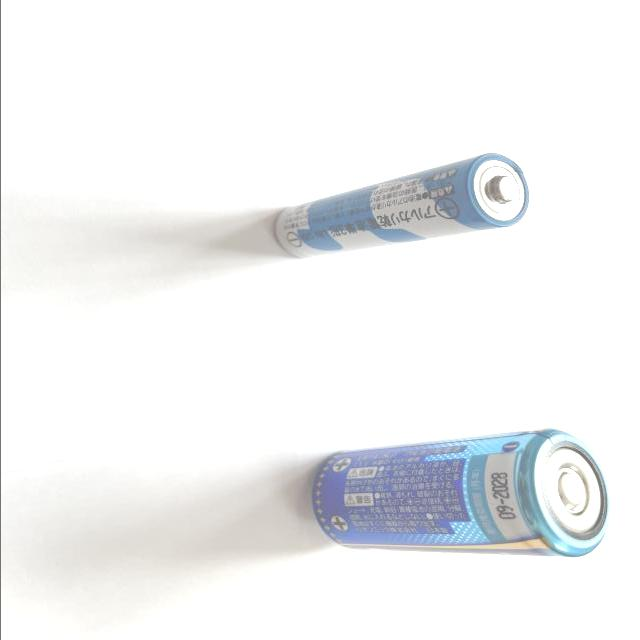AAA: (271, 152, 530, 259)
